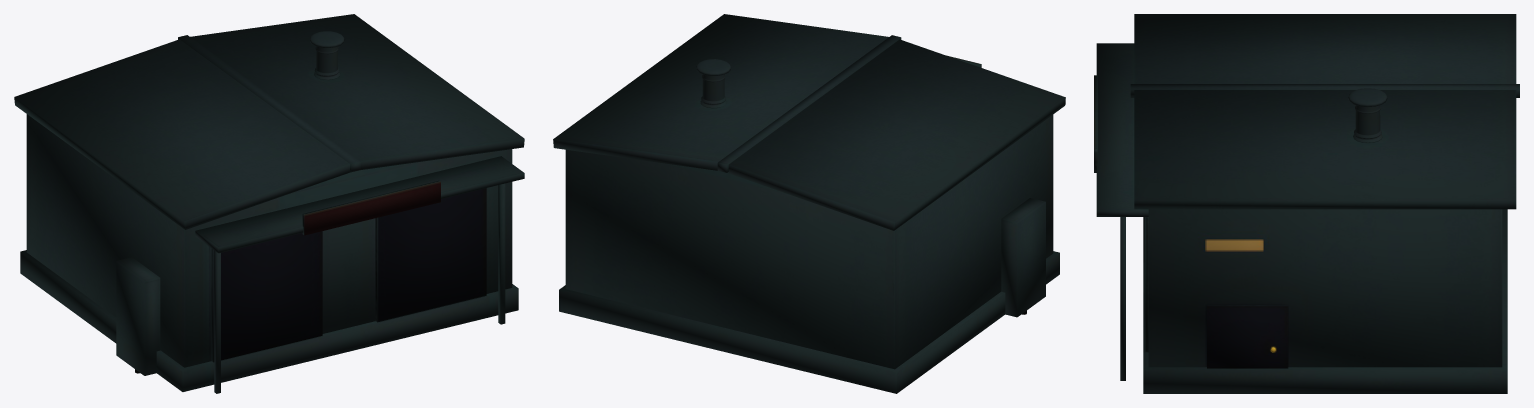
Rendered from yard-maintenance-body-tripo-original.glb.
The picture shows the model from 3 angles, left to right: view 1: azimuth 30°, elevation 25°; view 2: azimuth 150°, elevation 25°; view 3: azimuth 270°, elevation 25°; orthographic projection. The views are drawn at different scales.
Visible parts, largest first — view 1: Authored_surface_107; view 2: Authored_surface_107; view 3: Authored_surface_107.
Part boxes in pixels (bbox=[...]): Authored_surface_107: bbox=[14, 14, 524, 393]; Authored_surface_107: bbox=[553, 14, 1065, 393]; Authored_surface_107: bbox=[1094, 14, 1519, 393].
Bounding box in the file's own units: 1 × 0.6313 × 0.9396.
Materials: 1 (1 with a texture image).
